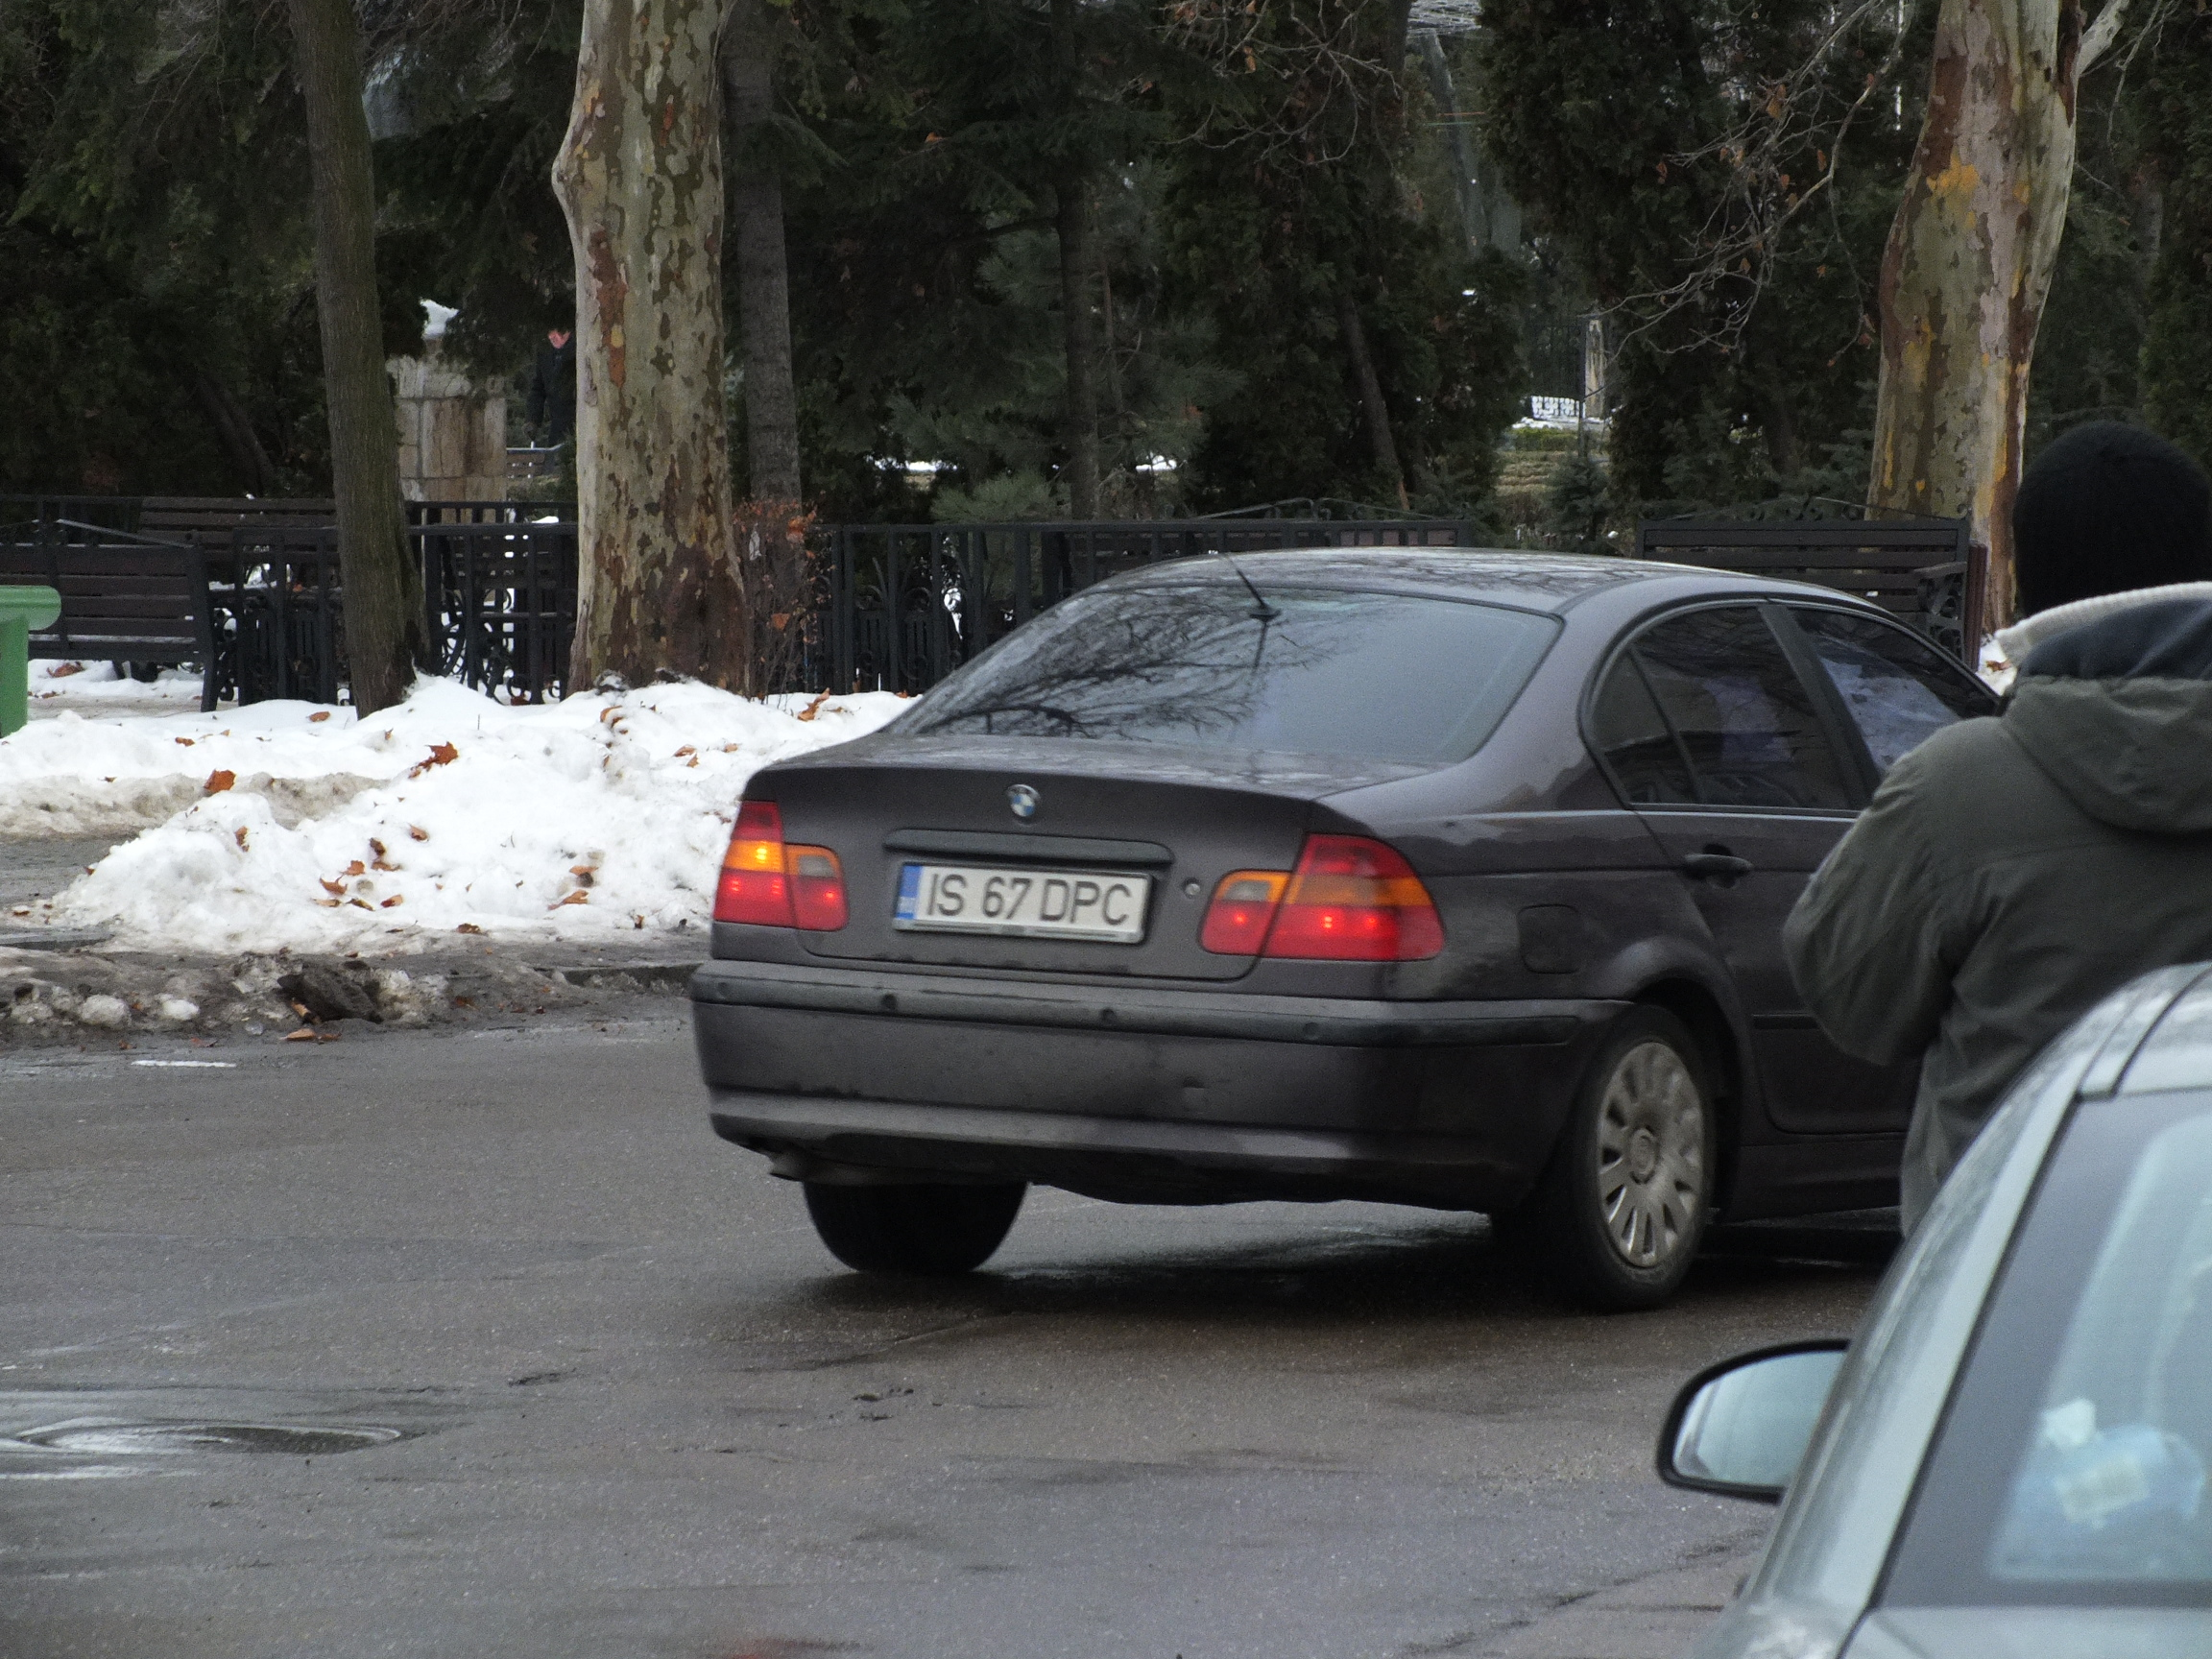IS67DPC: (902, 869, 1133, 934)
